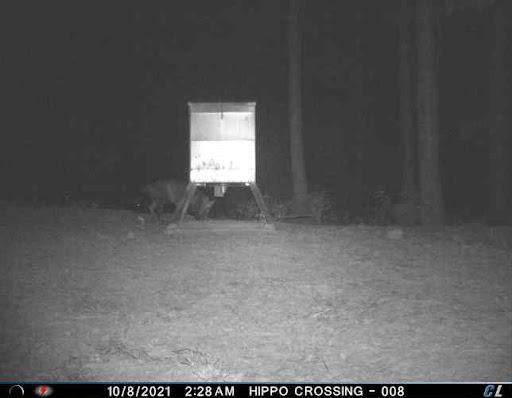Hog: (142, 169, 212, 226)
